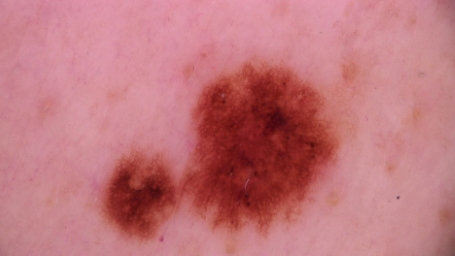nevus: (89, 40, 370, 248)
